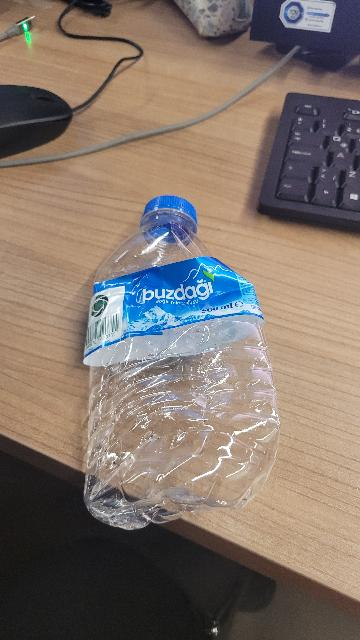Plastik: (84, 191, 281, 540)
